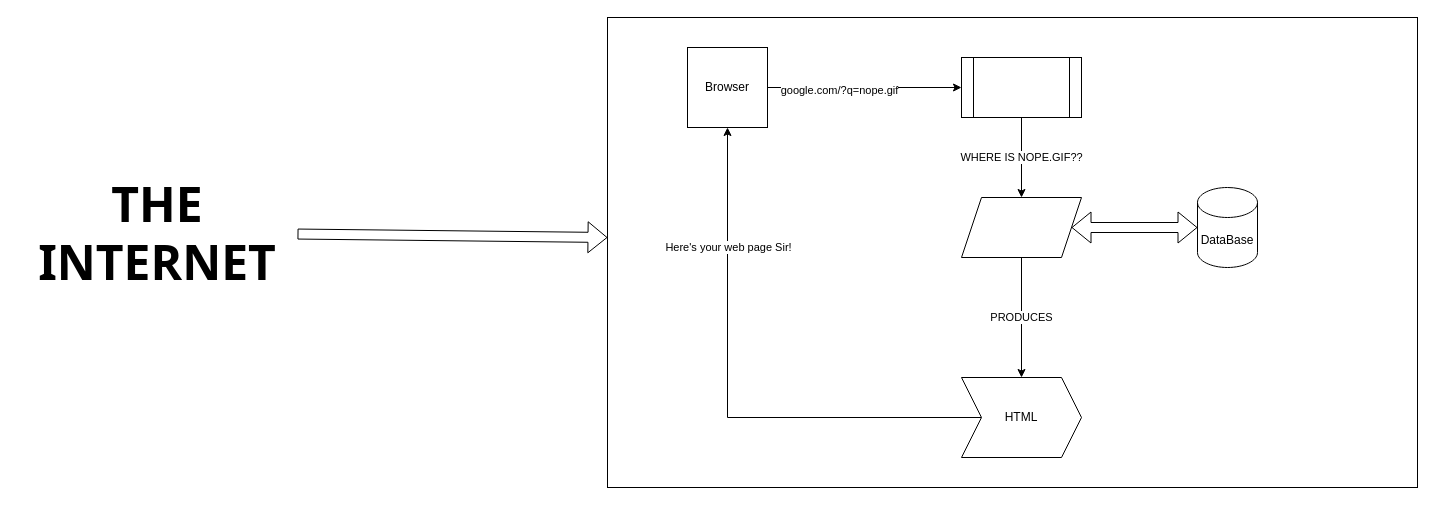
Image size: 1435x505. Some labels were removed from this diagram. Each missing label, with the centre of its shape:
CODE: the point at 1021,227
WEB SERVER: the point at 1021,87
